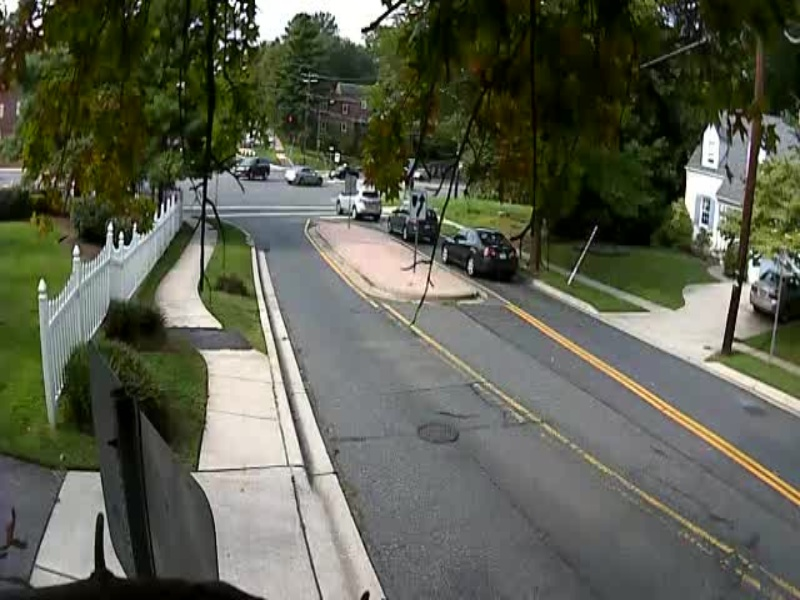car: (438, 223, 525, 287)
